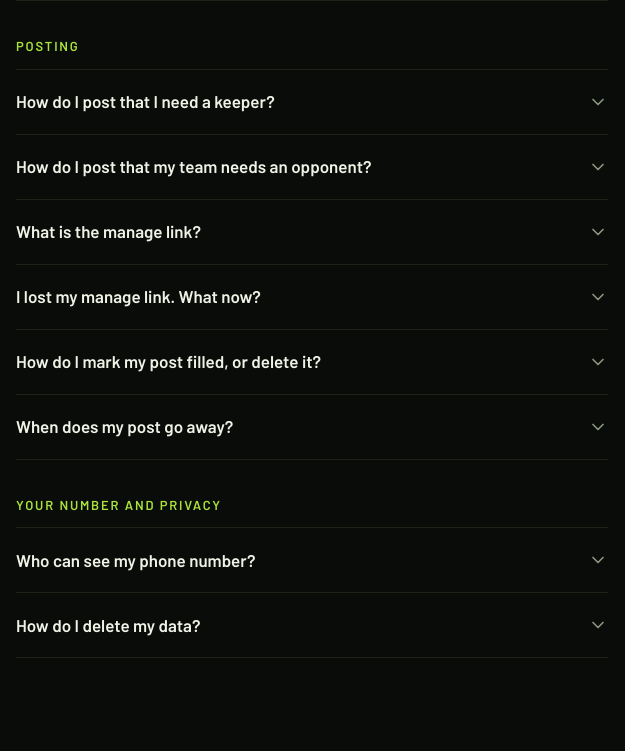
Scenario: HelpPage › opens an answer when its question is tapped
(page scrolled)
Click the button "Who can see my phone number?" at (136, 560), box top-left (16, 528), bottom-right (608, 592)
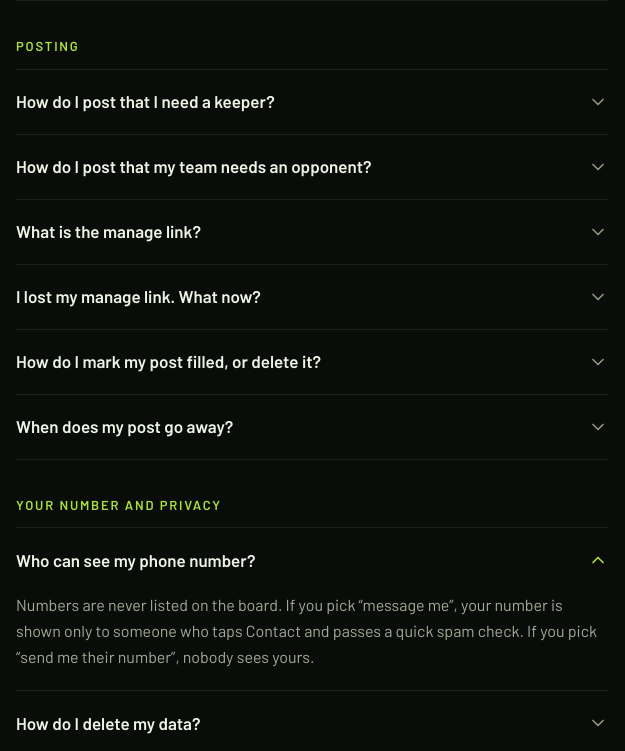
Now the button "Who can see my phone number?" is expanded, box top-left (16, 528), bottom-right (608, 592)
Now the text "Numbers are never listed on the board" is shown, box top-left (16, 595), bottom-right (597, 666)
